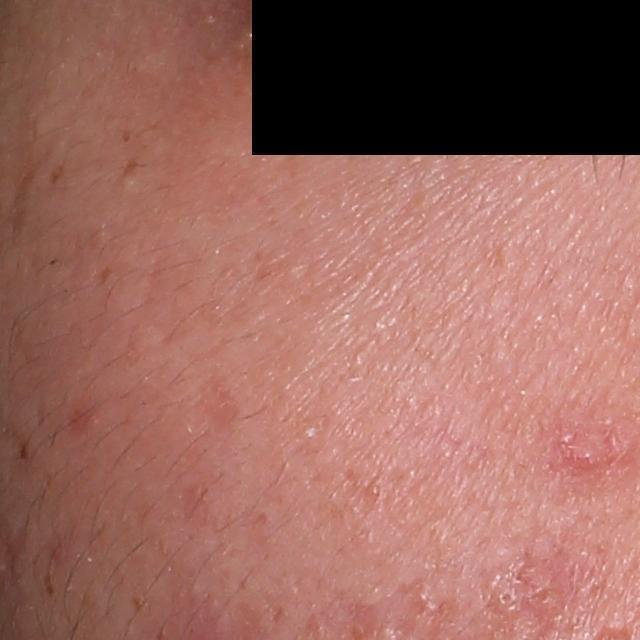comedo: (497, 586, 518, 608)
melasma: (50, 161, 67, 184)
papule: (569, 439, 607, 481)
